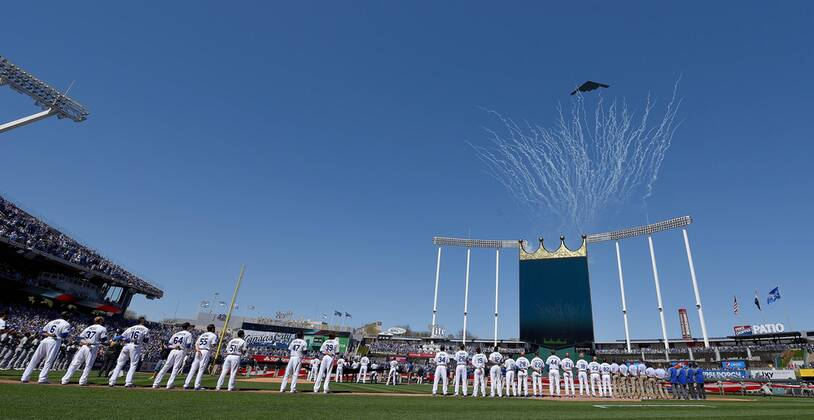B2: (569, 80, 611, 95)
